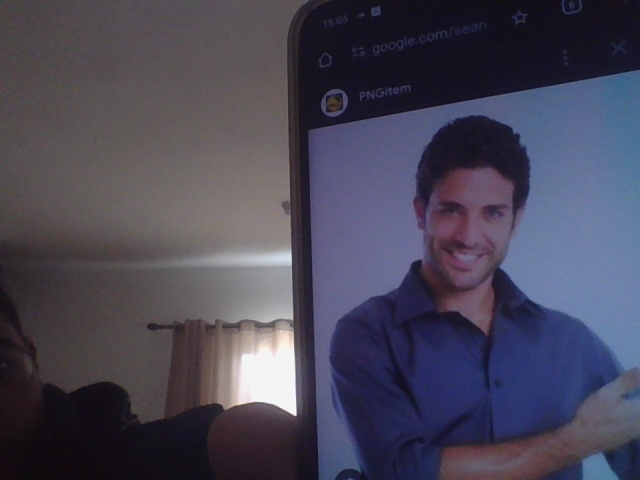fake: (410, 132, 526, 296)
